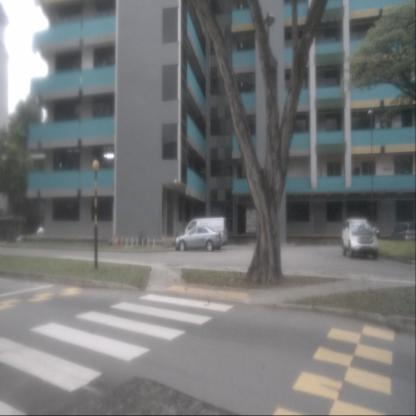cone: (113, 234, 118, 249), (119, 236, 123, 249)
